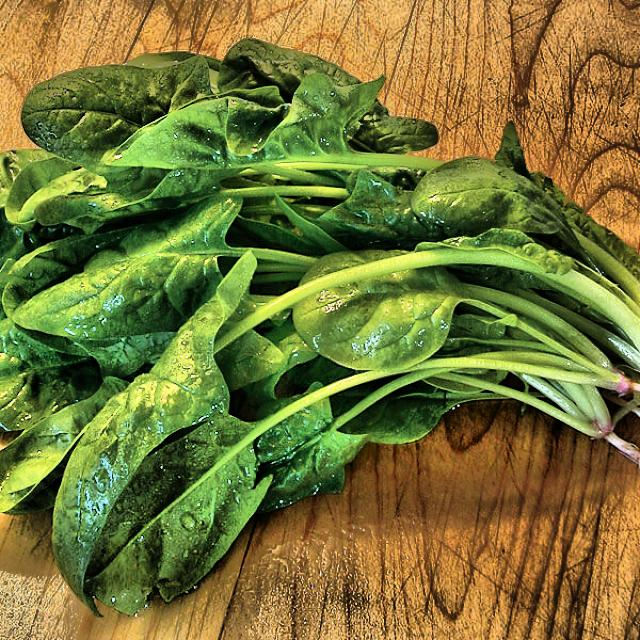spinach: (52, 87, 399, 500)
